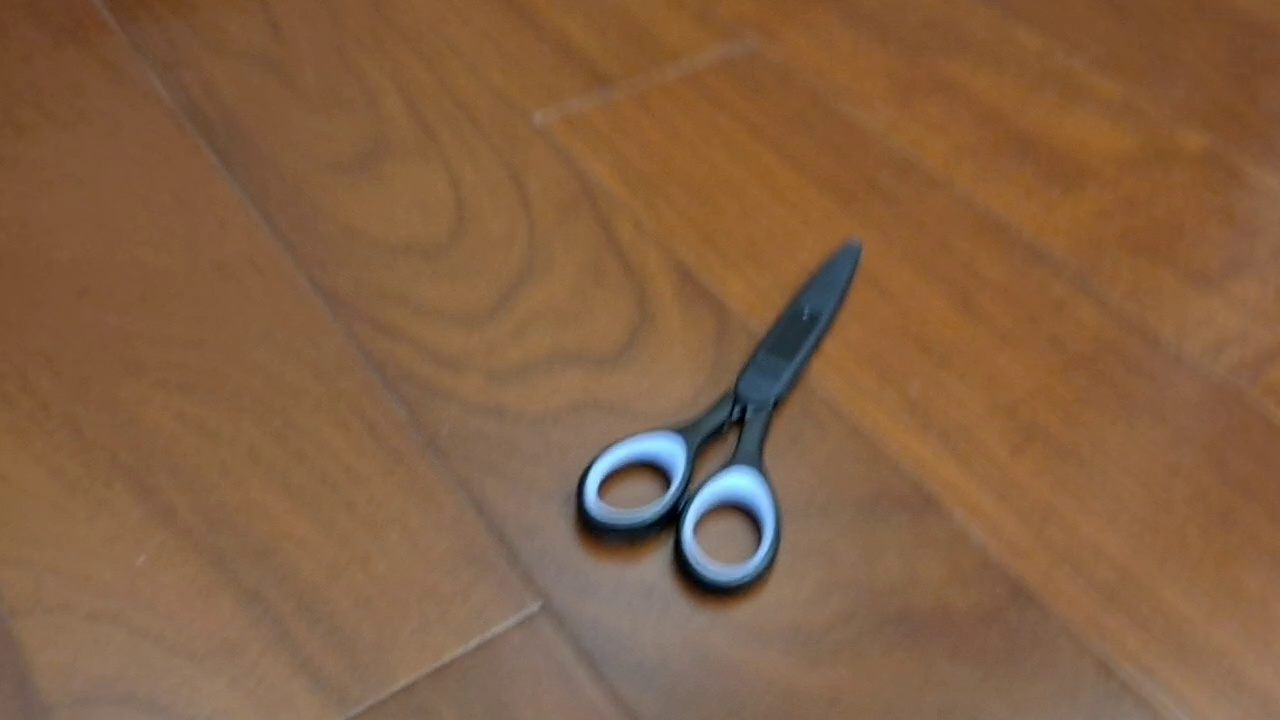scissors: (572, 236, 864, 599)
